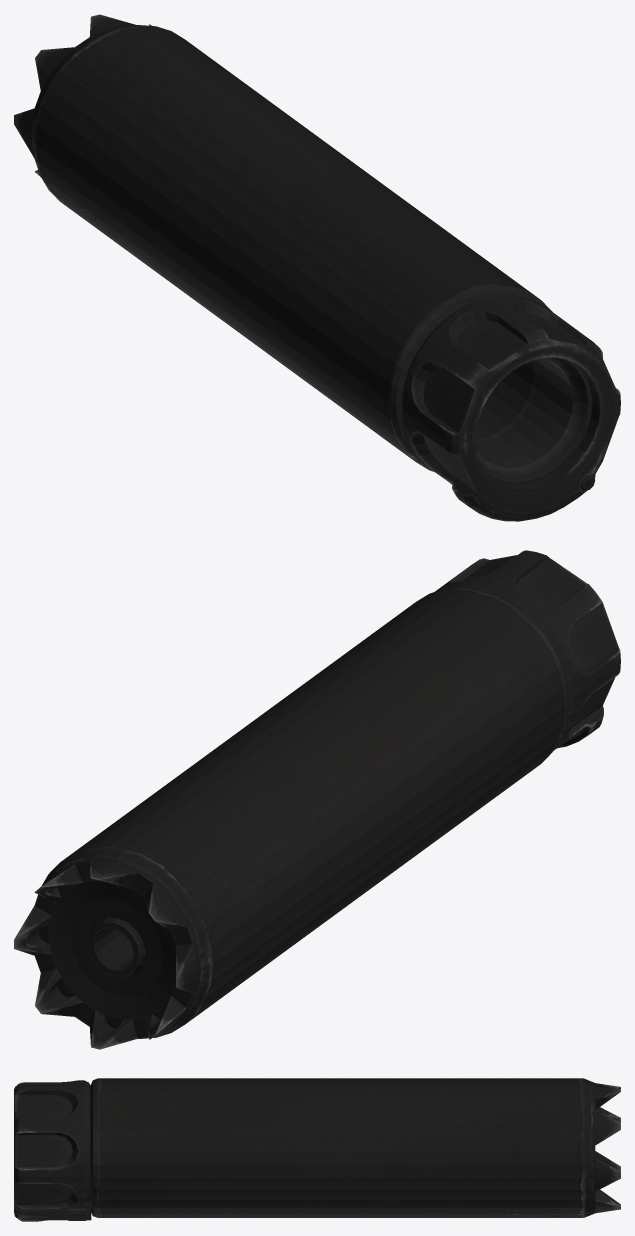
The picture shows the model from 3 angles, top to bottom: view 1: azimuth 30°, elevation 25°; view 2: azimuth 150°, elevation 25°; view 3: azimuth 270°, elevation 25°; orthographic projection. The views are drawn at different scales.
Parts seen in each view (by area): view 1: TW_55d614004bdc2d86028b4568_PZ_Import; view 2: TW_55d614004bdc2d86028b4568_PZ_Import; view 3: TW_55d614004bdc2d86028b4568_PZ_Import.
Boxes of the visible parts, bbox=[...] form: TW_55d614004bdc2d86028b4568_PZ_Import: bbox=[14, 14, 620, 521]; TW_55d614004bdc2d86028b4568_PZ_Import: bbox=[14, 550, 620, 1049]; TW_55d614004bdc2d86028b4568_PZ_Import: bbox=[14, 1078, 620, 1221].
Bounding box in the file's own units: 0.022 × 0.0956 × 0.0225.
Materials: 1 (1 with a texture image).
